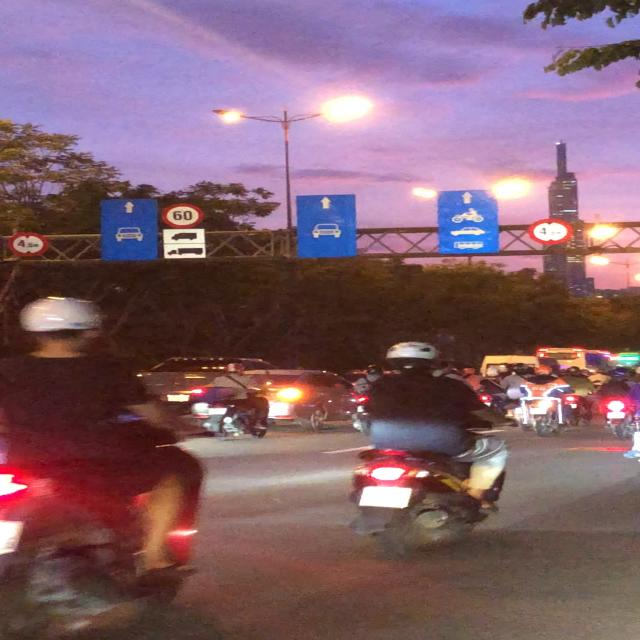Bien bao han che chieu cao: (523, 215, 581, 249), (8, 230, 56, 259)
Bien bao toc do toi da cho phep: (156, 202, 209, 231)
